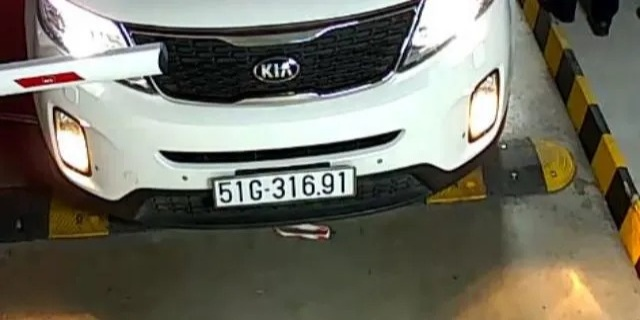bien_so: (213, 172, 357, 203)
